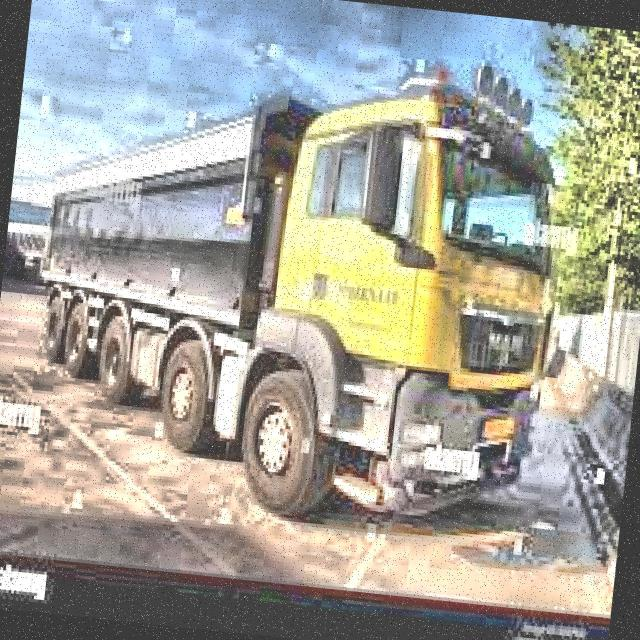dump_truck: (22, 12, 582, 536)
